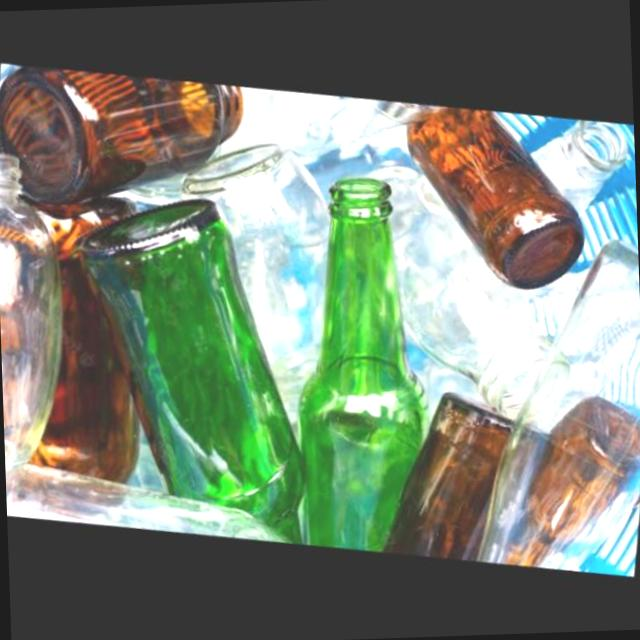chai_thuy_tinh: (84, 200, 306, 544), (476, 241, 640, 571), (294, 178, 431, 553), (365, 167, 553, 423), (181, 145, 331, 427), (0, 64, 245, 204), (29, 197, 141, 484), (409, 107, 585, 289), (5, 464, 292, 544), (381, 393, 514, 562), (0, 153, 64, 469), (209, 87, 443, 161), (533, 120, 628, 218)
